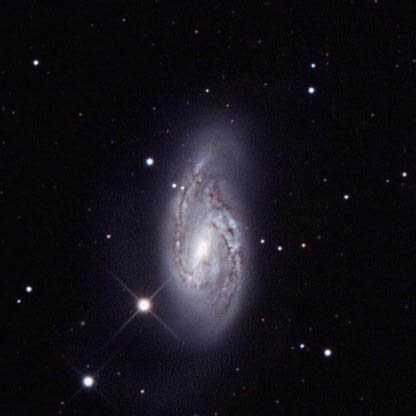Messier 66: (113, 99, 278, 362)
